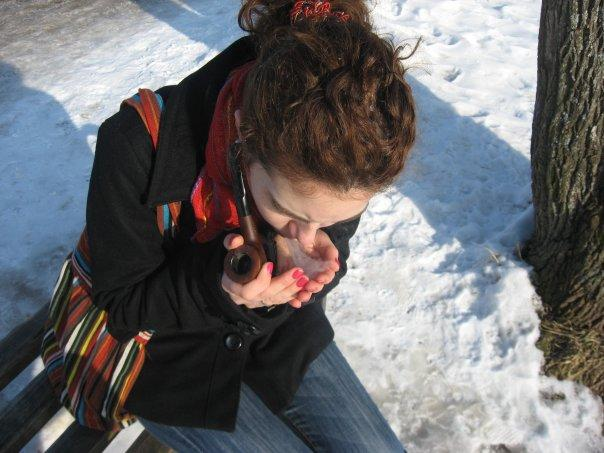trubka: (224, 142, 267, 284)
